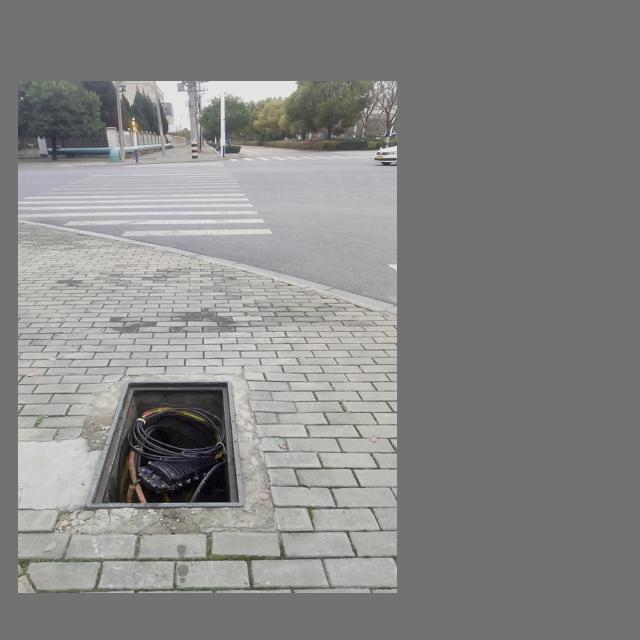lose: (80, 366, 245, 510)
